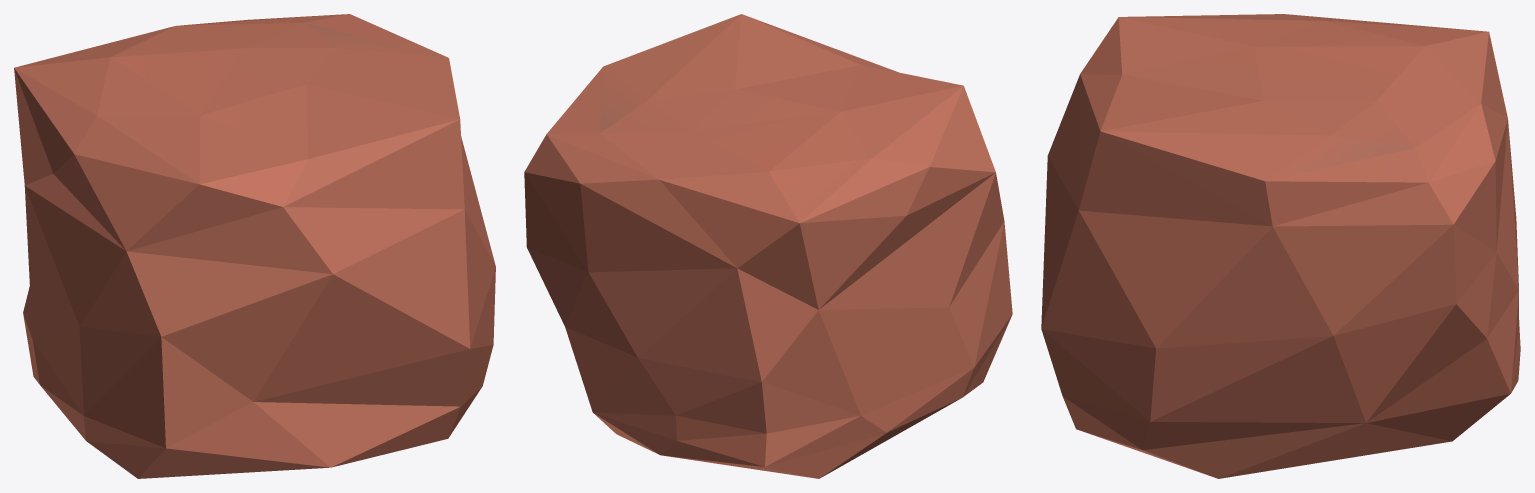
Rendered from boulder_007.fbx.
3 views of the same model, side by side, from view 1: azimuth 30°, elevation 25°; view 2: azimuth 150°, elevation 25°; view 3: azimuth 270°, elevation 25° (orthographic). The views are drawn at different scales.
Visible parts, largest first — view 1: boulder_007; view 2: boulder_007; view 3: boulder_007.
Boxes of the visible parts, x1=… form: boulder_007: x1=14, y1=14, x2=495, y2=478; boulder_007: x1=524, y1=14, x2=1012, y2=478; boulder_007: x1=1041, y1=14, x2=1520, y2=478.
Bounding box in the file's own units: 1092 × 1122 × 861.
